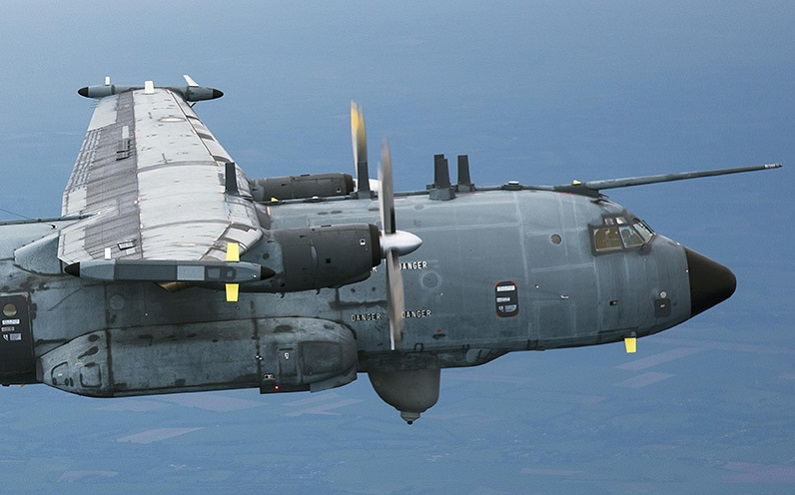Aeronef_militaire: (1, 71, 788, 434)
